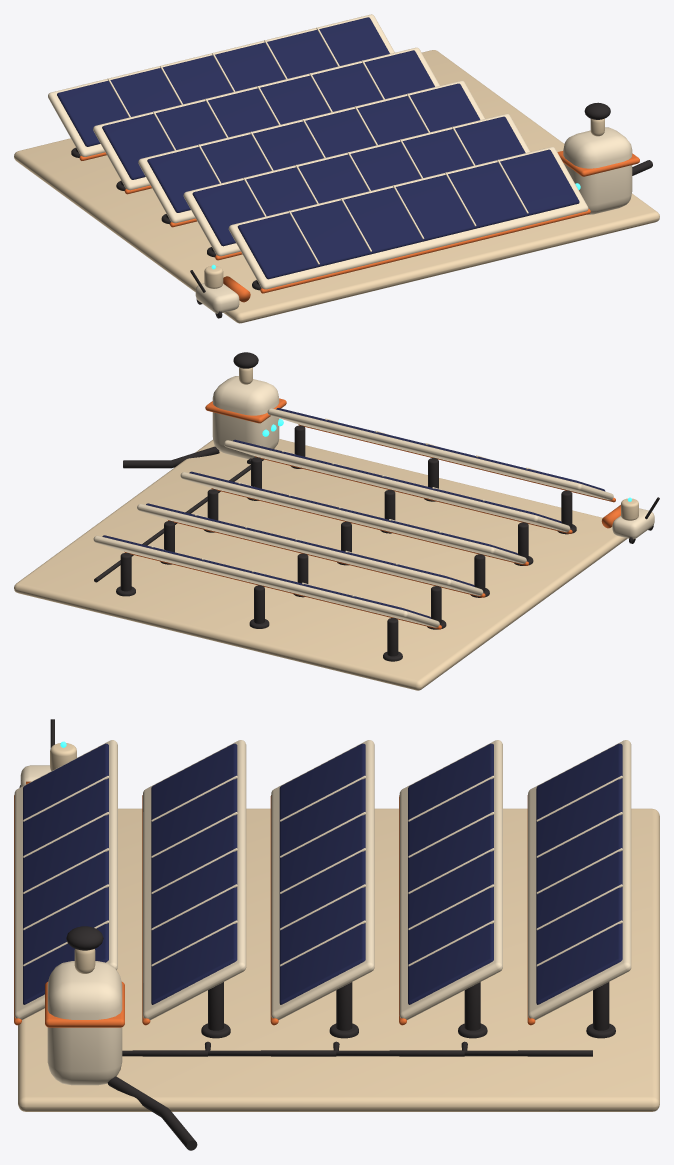
The model's file is solar-20.glb.
3 renders of one model, top to bottom at view 1: azimuth 30°, elevation 25°; view 2: azimuth 150°, elevation 25°; view 3: azimuth 270°, elevation 25°, orthographic. The views are drawn at different scales.
Visible parts, largest first — view 1: Cube.002, Cube, Cube.001, Cube.008, Cylinder; view 2: Cube, Cube.001, Cylinder, Cube.002, Cube.008; view 3: Cube.002, Cube, Cube.001, Cylinder, Cube.008.
Boxes of the visible parts, x1=… form: Cube.002: x1=57, y1=17, x2=579, y2=279; Cube: x1=14, y1=50, x2=659, y2=323; Cube.001: x1=48, y1=14, x2=632, y2=313; Cube.008: x1=79, y1=151, x2=639, y2=302; Cylinder: x1=71, y1=102, x2=652, y2=318; Cube: x1=14, y1=367, x2=638, y2=690; Cube.001: x1=93, y1=376, x2=654, y2=627; Cylinder: x1=94, y1=352, x2=659, y2=661; Cube.002: x1=102, y1=408, x2=605, y2=618; Cube.008: x1=124, y1=398, x2=620, y2=629; Cube.002: x1=23, y1=743, x2=622, y2=1004; Cube: x1=18, y1=743, x2=659, y2=1111; Cube.001: x1=14, y1=740, x2=631, y2=1085; Cylinder: x1=19, y1=719, x2=615, y2=1150; Cube.008: x1=14, y1=781, x2=535, y2=1027.
Bounding box in the file's own units: 3.13 × 0.6585 × 2.42.
